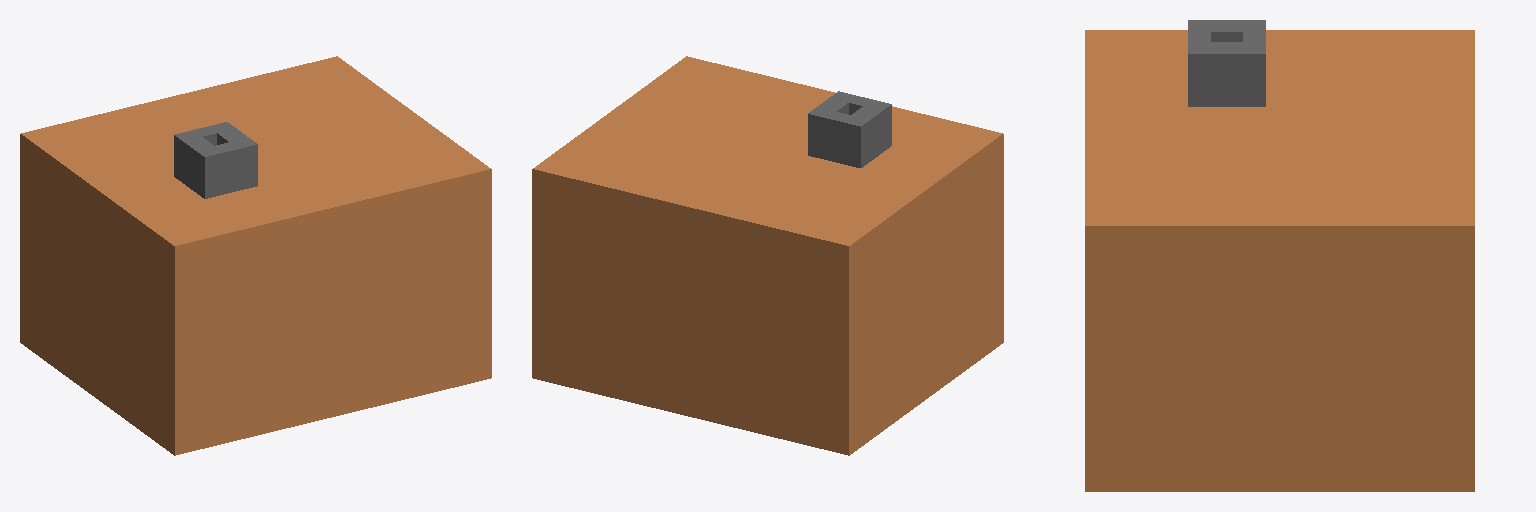
URDF robot description (peg_in_hole_tolerances_scenes_scene_0009_tol08):
<?xml version="1.0"?>
<robot name="peg_in_hole_tolerances_scenes_scene_0009_tol08">
  <material name="wood"><color rgba="0.82 0.56 0.35 1.0"/></material>
  <material name="hole_grey"><color rgba="0.4706 0.4706 0.4706 1.0"/></material>
  <link name="box">
    <visual>
      <origin xyz="0.000000 0.000000 0.000000" rpy="0 0 0"/>
      <geometry><box size="0.475000 0.400000 0.300000"/></geometry>
      <material name="wood"/>
    </visual>
    <collision>
      <origin xyz="0.000000 0.000000 0.000000" rpy="0 0 0"/>
      <geometry><box size="0.475000 0.400000 0.300000"/></geometry>
    </collision>
    <visual>
      <origin xyz="-0.091271 -0.054192 0.155000" rpy="0 0 0"/>
      <geometry><box size="0.080000 0.080000 0.010000"/></geometry>
      <material name="hole_grey"/>
    </visual>
    <collision>
      <origin xyz="-0.091271 -0.054192 0.155000" rpy="0 0 0"/>
      <geometry><box size="0.080000 0.080000 0.010000"/></geometry>
    </collision>
    <visual>
      <origin xyz="-0.065793 -0.054192 0.185000" rpy="0 0 0"/>
      <geometry><box size="0.029045 0.080000 0.050000"/></geometry>
      <material name="hole_grey"/>
    </visual>
    <collision>
      <origin xyz="-0.065793 -0.054192 0.185000" rpy="0 0 0"/>
      <geometry><box size="0.029045 0.080000 0.050000"/></geometry>
    </collision>
    <visual>
      <origin xyz="-0.116749 -0.054192 0.185000" rpy="0 0 0"/>
      <geometry><box size="0.029045 0.080000 0.050000"/></geometry>
      <material name="hole_grey"/>
    </visual>
    <collision>
      <origin xyz="-0.116749 -0.054192 0.185000" rpy="0 0 0"/>
      <geometry><box size="0.029045 0.080000 0.050000"/></geometry>
    </collision>
    <visual>
      <origin xyz="-0.091271 -0.026215 0.185000" rpy="0 0 0"/>
      <geometry><box size="0.021911 0.024045 0.050000"/></geometry>
      <material name="hole_grey"/>
    </visual>
    <collision>
      <origin xyz="-0.091271 -0.026215 0.185000" rpy="0 0 0"/>
      <geometry><box size="0.021911 0.024045 0.050000"/></geometry>
    </collision>
    <visual>
      <origin xyz="-0.091271 -0.082170 0.185000" rpy="0 0 0"/>
      <geometry><box size="0.021911 0.024045 0.050000"/></geometry>
      <material name="hole_grey"/>
    </visual>
    <collision>
      <origin xyz="-0.091271 -0.082170 0.185000" rpy="0 0 0"/>
      <geometry><box size="0.021911 0.024045 0.050000"/></geometry>
    </collision>
    <inertial>
      <mass value="500"/>
      <friction value="1.0"/>
      <inertia ixx="1000.0" ixy="0.0" ixz="0.0" iyy="1000.0" iyz="0.0" izz="1000.0"/>
    </inertial>
  </link>
</robot>

--- Facts derived from the render (not from the file) ---
3 views of the same robot in one strip: view 1: azimuth 30°, elevation 25°; view 2: azimuth 150°, elevation 25°; view 3: azimuth 270°, elevation 25° (orthographic).
Robot: peg_in_hole_tolerances_scenes_scene_0009_tol08 — 1 links, 0 joints (none); root link box; default pose: every joint at zero.
Visible links, largest first — view 1: box; view 2: box; view 3: box.
Link boxes in pixels (left/top/right/bottom): box: left=20, top=56, right=491, bottom=455; box: left=532, top=56, right=1003, bottom=455; box: left=1085, top=20, right=1474, bottom=491.
Bounding box of the posed robot: 0.475 × 0.4 × 0.36 m (x, y, z).
Geometry: primitives only (box / cylinder / sphere), no mesh files.
